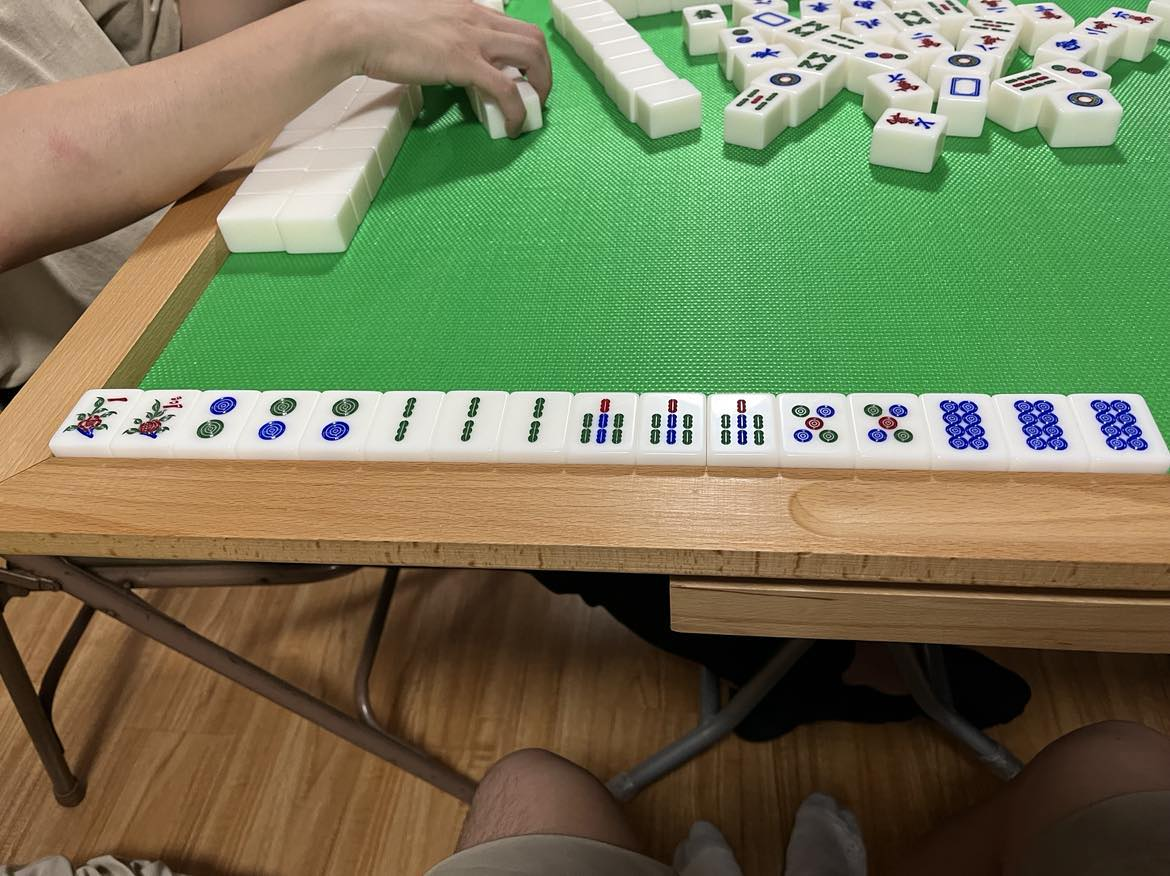bamboo-seven: (712, 395, 771, 453), (643, 393, 700, 452), (575, 392, 628, 449)
bamboo-two: (512, 393, 560, 451), (382, 393, 428, 452), (445, 394, 491, 449)
circle-eight: (1010, 396, 1071, 459), (936, 396, 999, 455), (1090, 396, 1148, 457)
circle-five: (860, 395, 916, 450), (786, 397, 844, 449)
circle-two: (315, 393, 364, 454), (254, 394, 299, 450), (196, 393, 237, 447)
flower-red_one: (64, 388, 128, 443)
flower-red_three: (129, 392, 189, 448)
